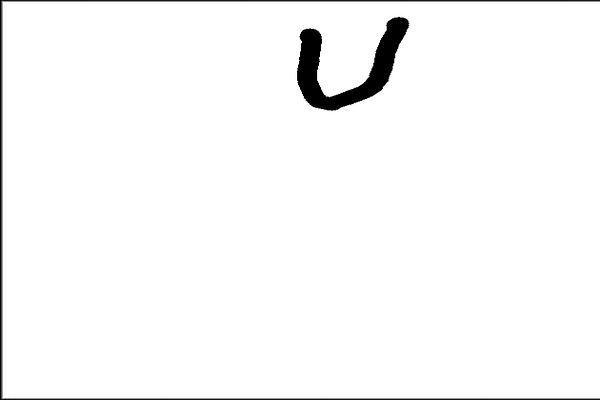U: (284, 10, 412, 113)
